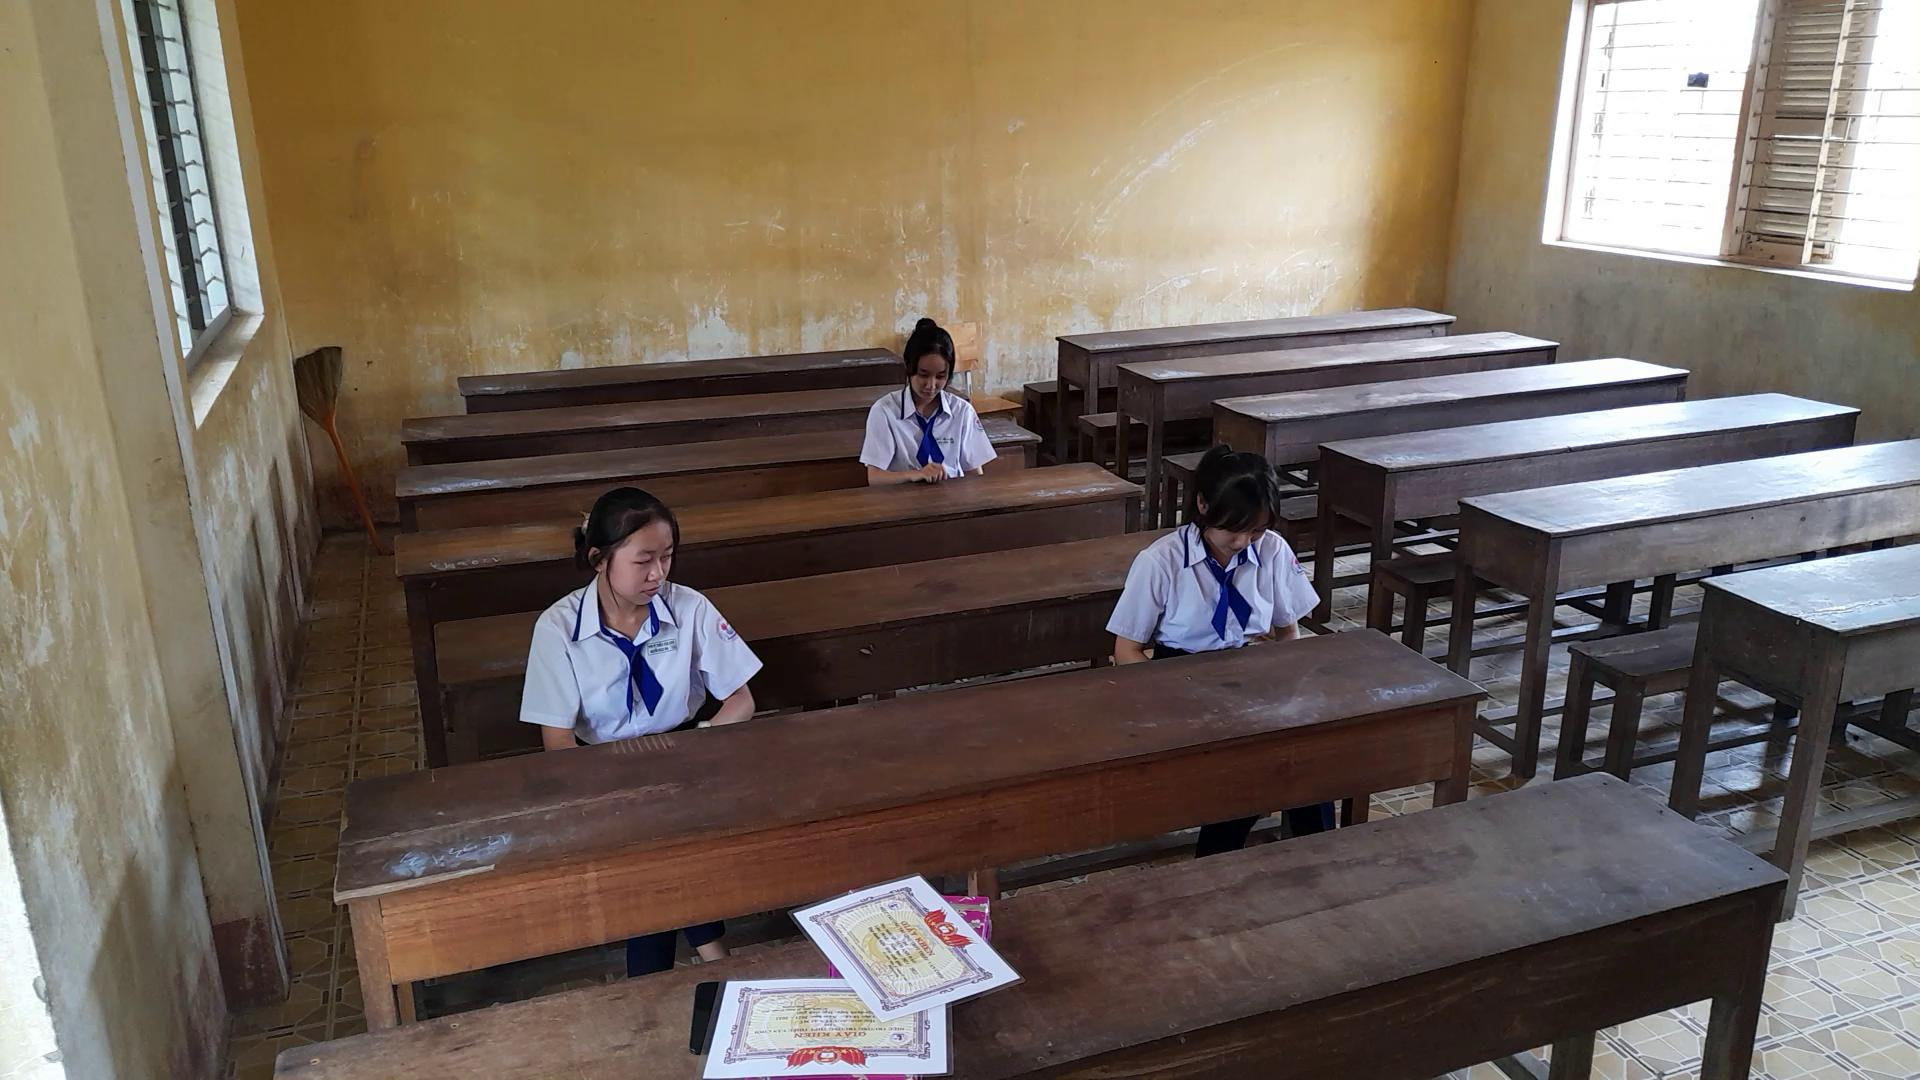Bend Over The Desk: (1167, 436, 1300, 564), (876, 301, 969, 410)
Hand Under Table: (521, 596, 587, 764), (694, 593, 760, 740), (1106, 541, 1172, 687), (1265, 521, 1331, 666), (951, 386, 997, 489)
Look Around: (555, 480, 702, 613)
